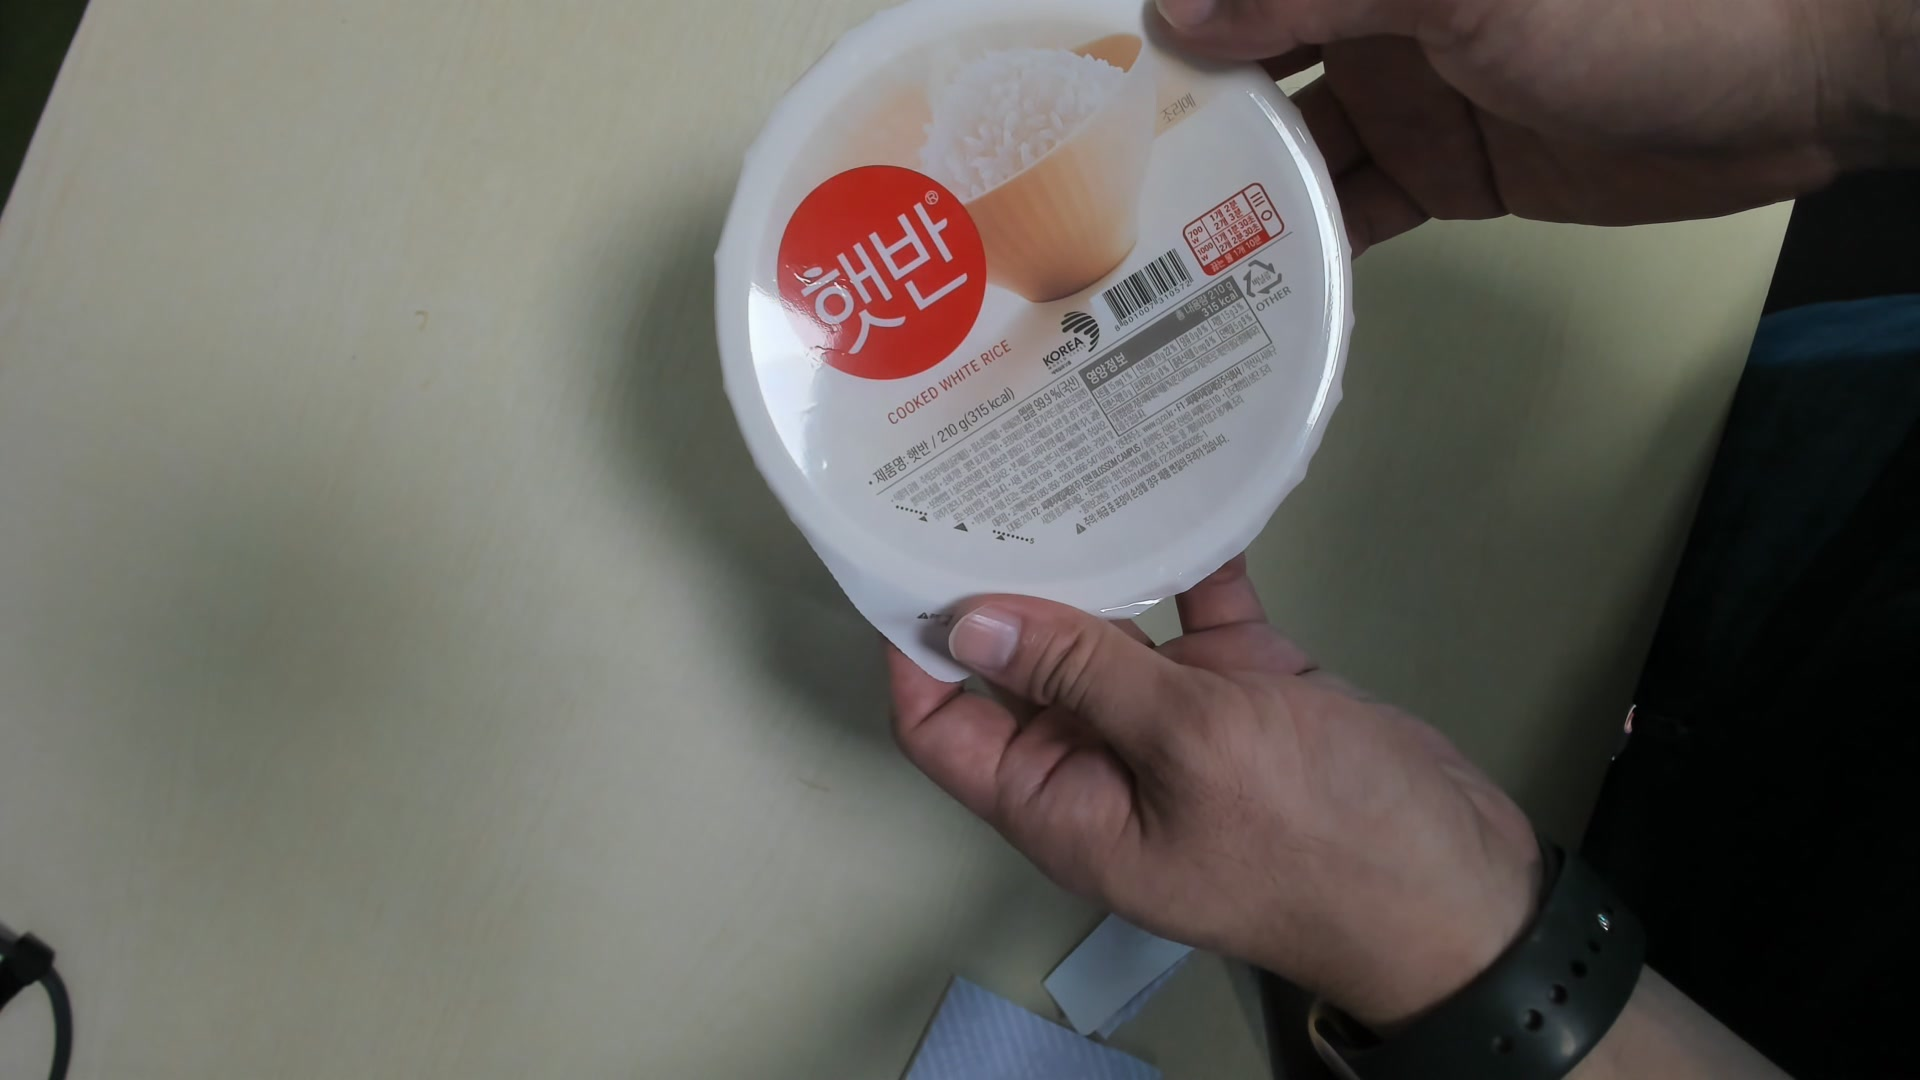Pasta_500-599g_Halal_NonHealthy: (721, 5, 1356, 678)
